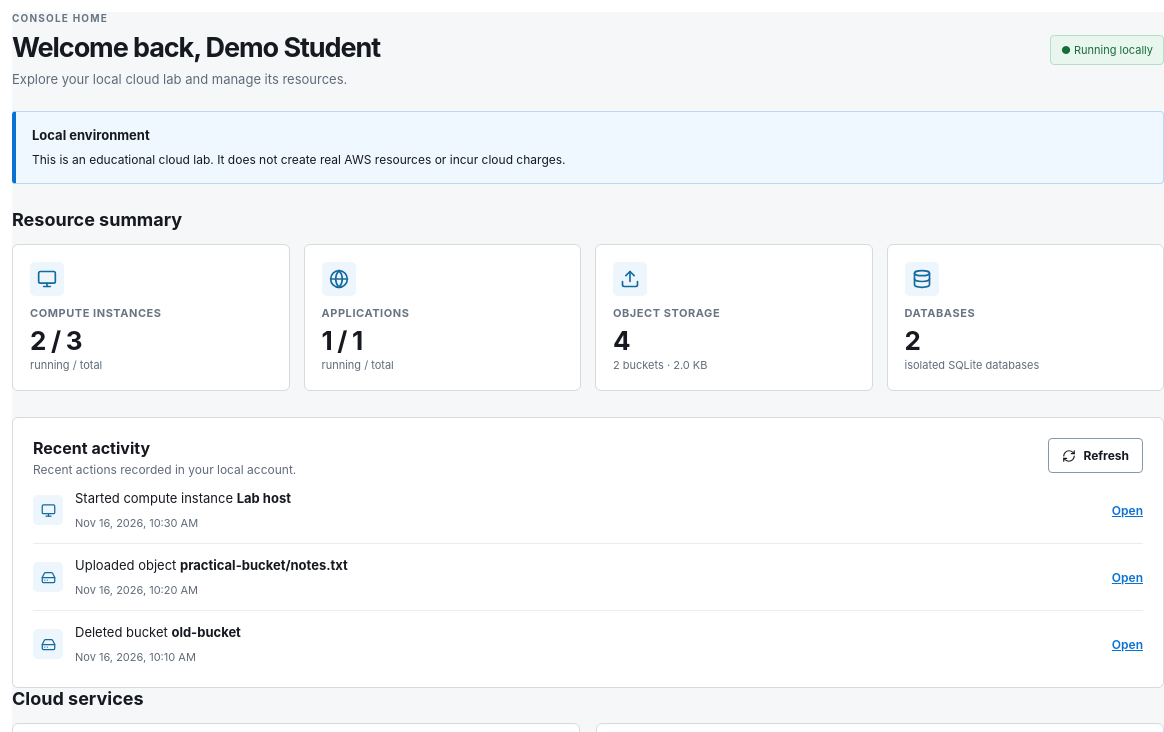
Test: dashboard page › reloads the summary with the refresh button
Check: the text "2 / 3" is shown, box [30, 324, 82, 356]
Step 1. Click the button "Refresh" → (1096, 456), box [1048, 438, 1143, 473]
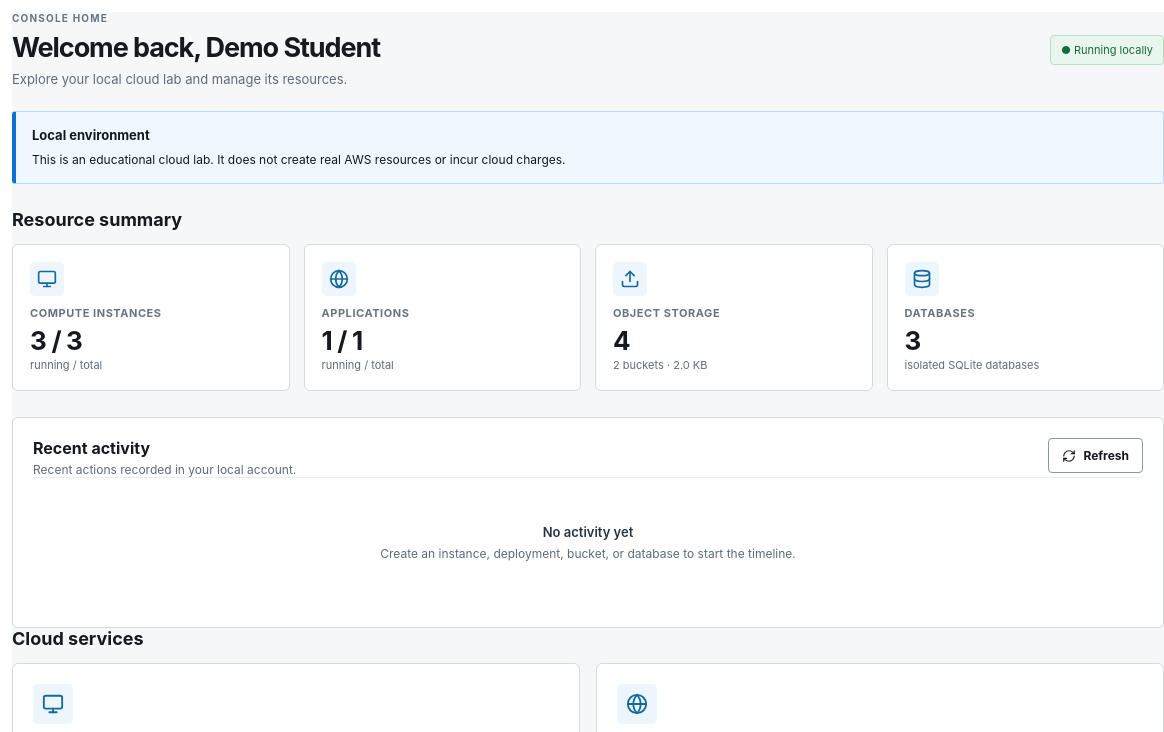
Check: the text "3 / 3" is shown, box [30, 324, 82, 356]
Check: the text "No activity yet" is shown, box [543, 524, 633, 540]
